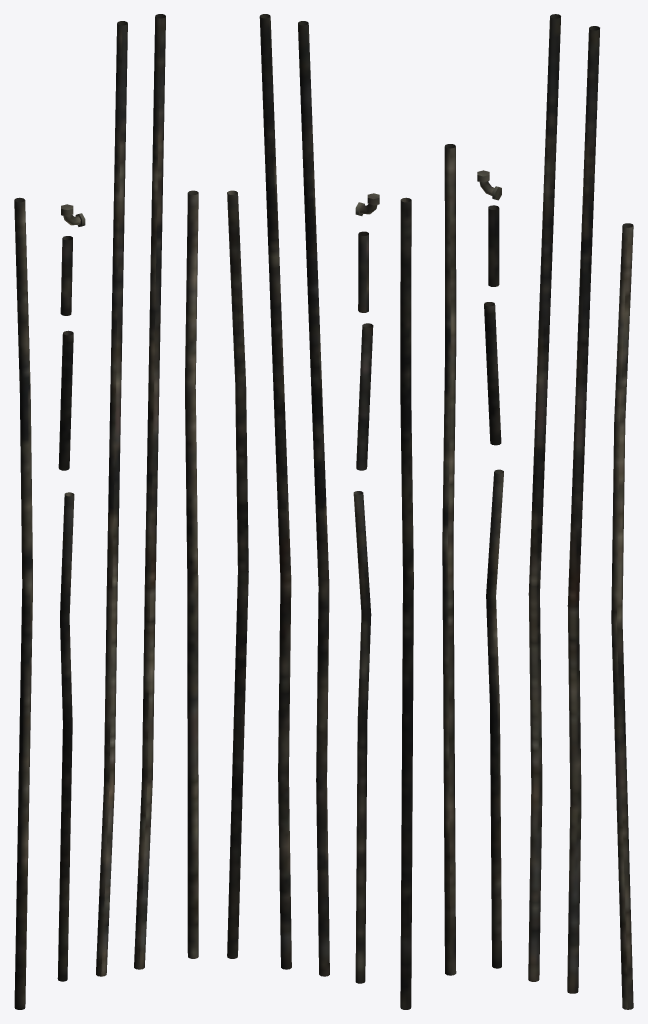
File: ThinPipes.FBX
3 views of the same model, side by side, from view 1: azimuth 30°, elevation 25°; view 2: azimuth 150°, elevation 25°; view 3: azimuth 330°, elevation 25° (orthographic). The views are drawn at different scales.
Visible parts, largest first — view 1: ThinPipes_06, ThinPipes_05, ThinPipes_07, ThinPipes_02, ThinPipes_01, ThinPipes_08, ThinPipes_04; view 2: ThinPipes_06, ThinPipes_05, ThinPipes_07, ThinPipes_02, ThinPipes_01, ThinPipes_08, ThinPipes_04; view 3: ThinPipes_05, ThinPipes_06, ThinPipes_07, ThinPipes_02, ThinPipes_01, ThinPipes_08, ThinPipes_04.
Boxes of the visible parts, <box> form: ThinPipes_06: <box>96,21,127,976</box>; ThinPipes_05: <box>134,14,165,969</box>; ThinPipes_07: <box>14,197,32,1009</box>; ThinPipes_02: <box>185,190,198,958</box>; ThinPipes_01: <box>57,492,74,981</box>; ThinPipes_08: <box>58,330,73,470</box>; ThinPipes_04: <box>60,236,72,315</box>; ThinPipes_06: <box>298,21,329,976</box>; ThinPipes_05: <box>259,14,291,969</box>; ThinPipes_07: <box>400,197,413,1009</box>; ThinPipes_02: <box>227,190,248,958</box>; ThinPipes_01: <box>353,491,371,983</box>; ThinPipes_08: <box>356,323,373,470</box>; ThinPipes_04: <box>358,231,368,312</box>; ThinPipes_05: <box>567,26,599,993</box>; ThinPipes_06: <box>528,14,560,981</box>; ThinPipes_07: <box>442,144,456,975</box>; ThinPipes_02: <box>611,223,633,1009</box>; ThinPipes_01: <box>486,469,503,968</box>; ThinPipes_08: <box>484,302,501,445</box>; ThinPipes_04: <box>488,205,499,286</box>.
Bounding box in the file's own units: 54.2 × 272 × 7.48.
